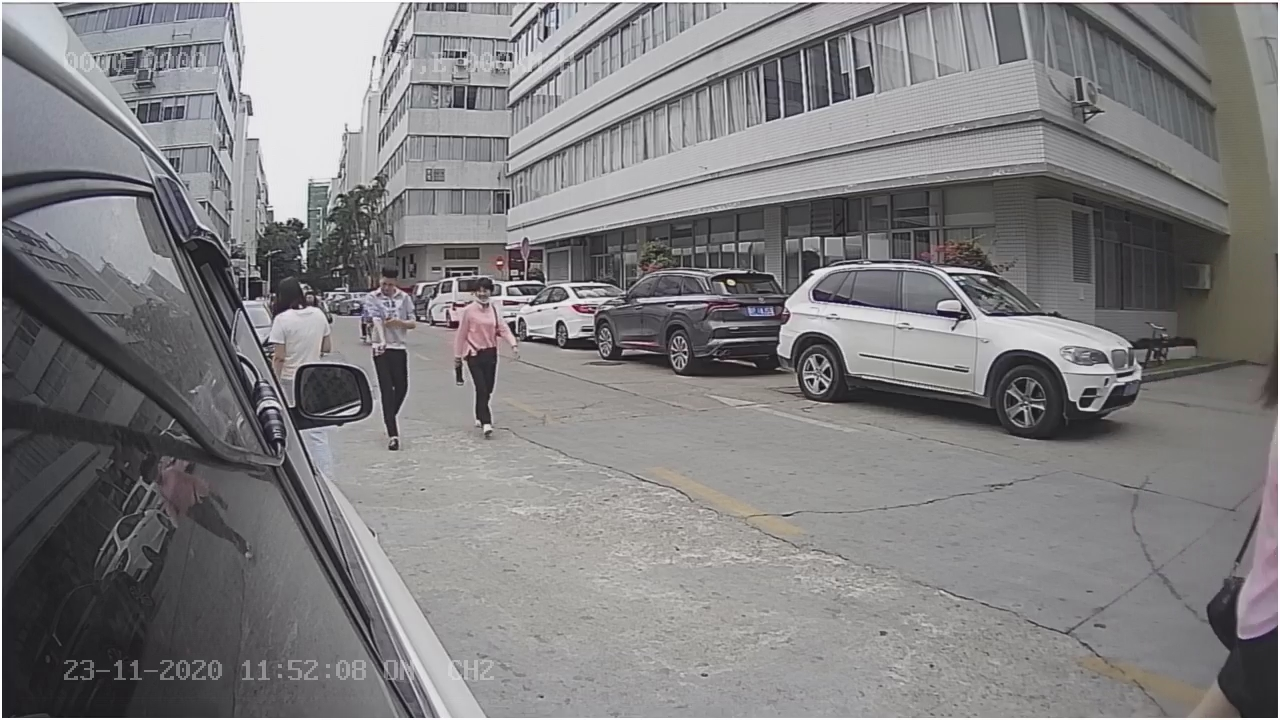person: (450, 273, 515, 438), (362, 256, 421, 362)
